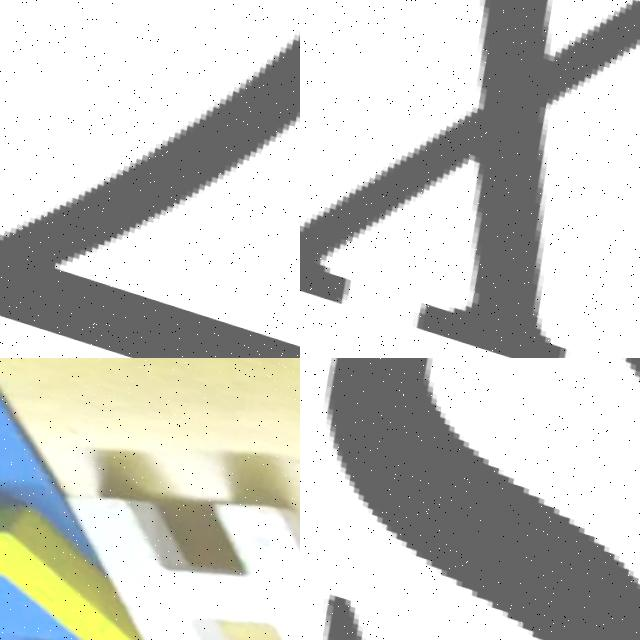7: (0, 0, 300, 358)
H: (33, 439, 300, 640)
L: (0, 451, 185, 640)
S: (300, 358, 640, 640)
X: (300, 0, 640, 358)
